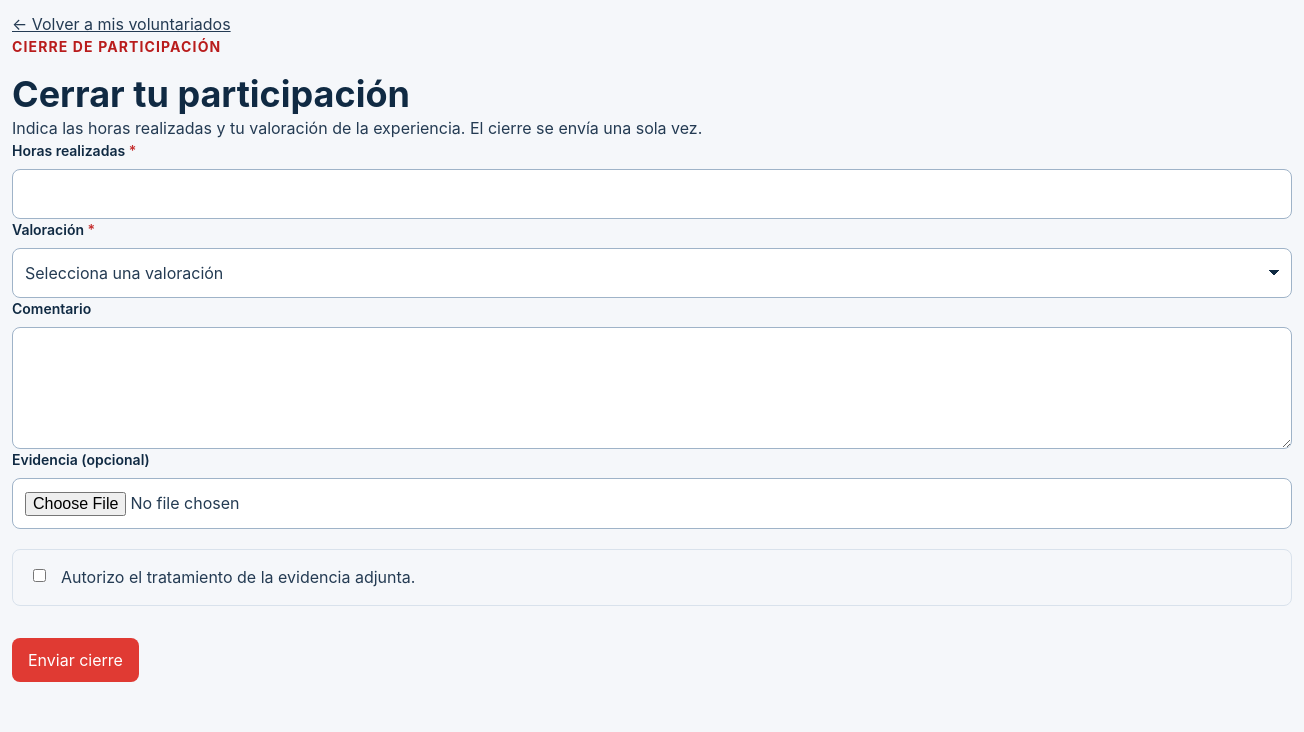
employee closure page › shows ACTIVITY_NOT_FINISHED when the activity has not ended yet
Type "6" into the number field labelled "Horas realizadas *" at [652, 194], box 12,169 -> 1292,219
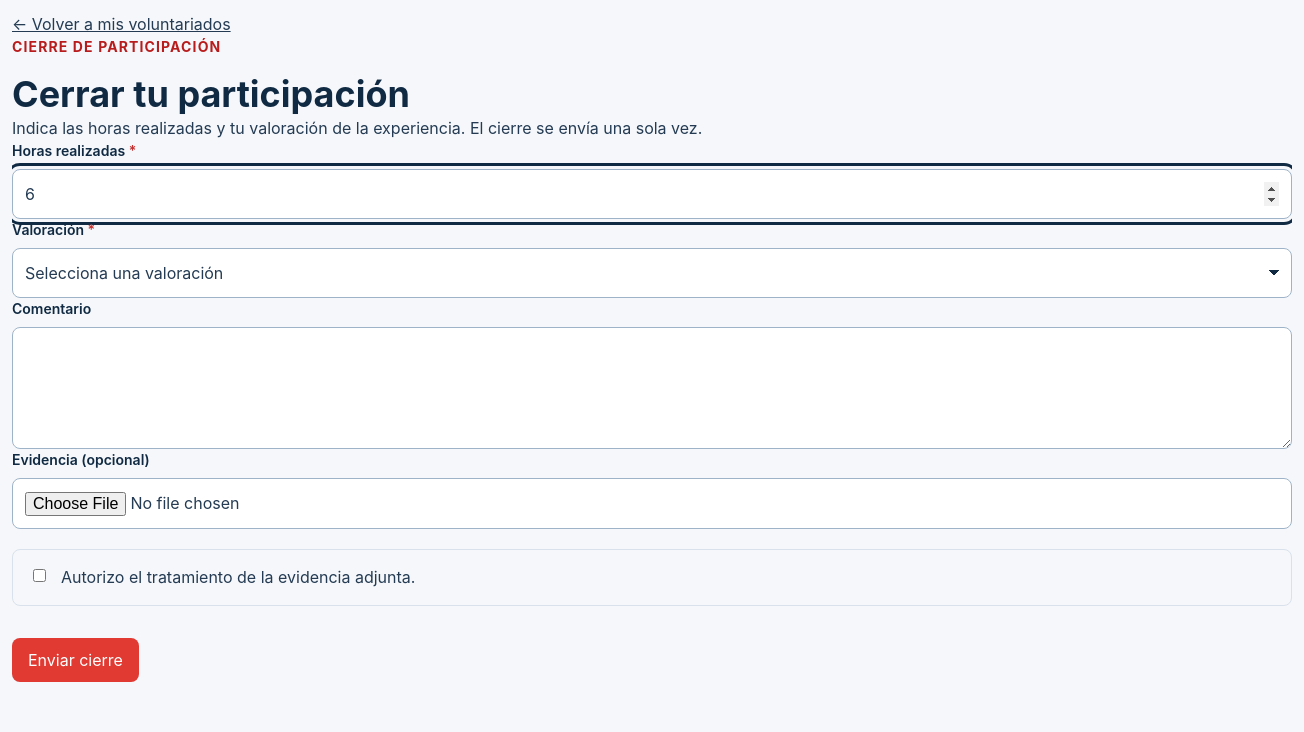
Select "5" in the dropdown labelled "Valoración *" at [652, 273], box 12,248 -> 1292,298
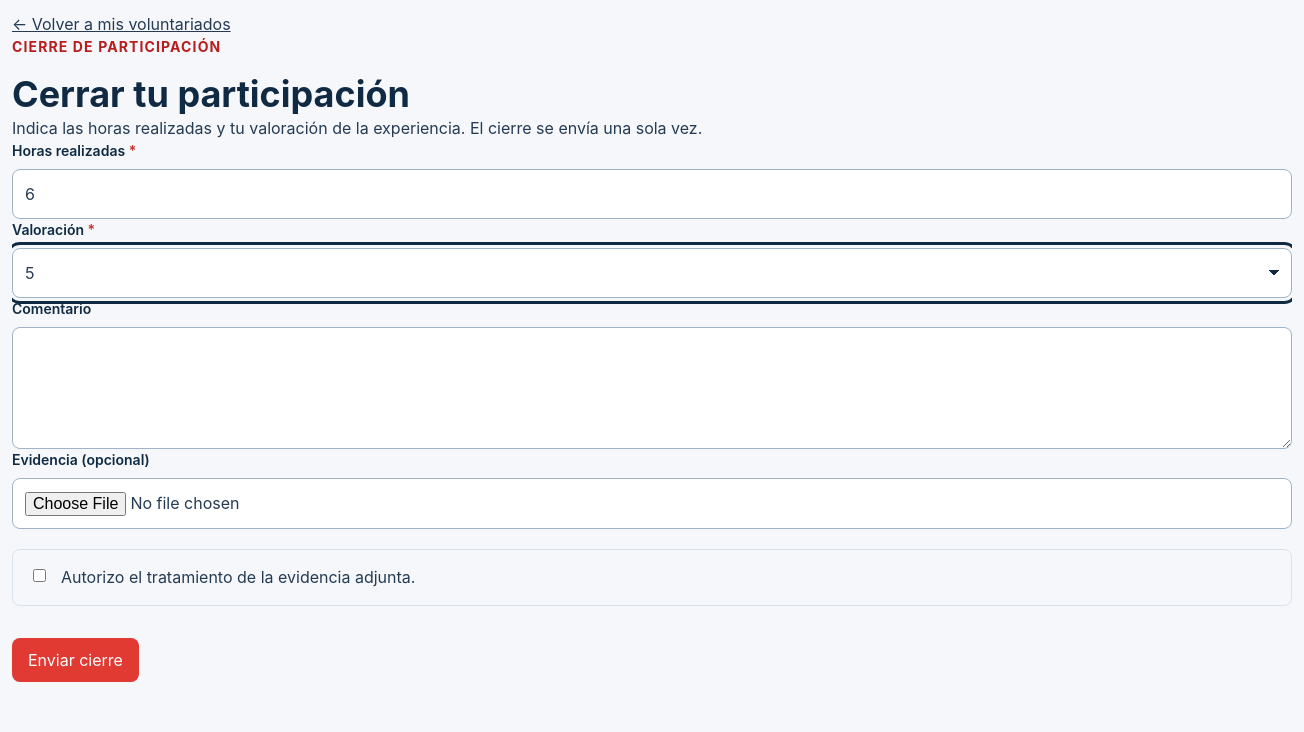
Click the button "Enviar cierre" at [75, 660], box 12,638 -> 139,682
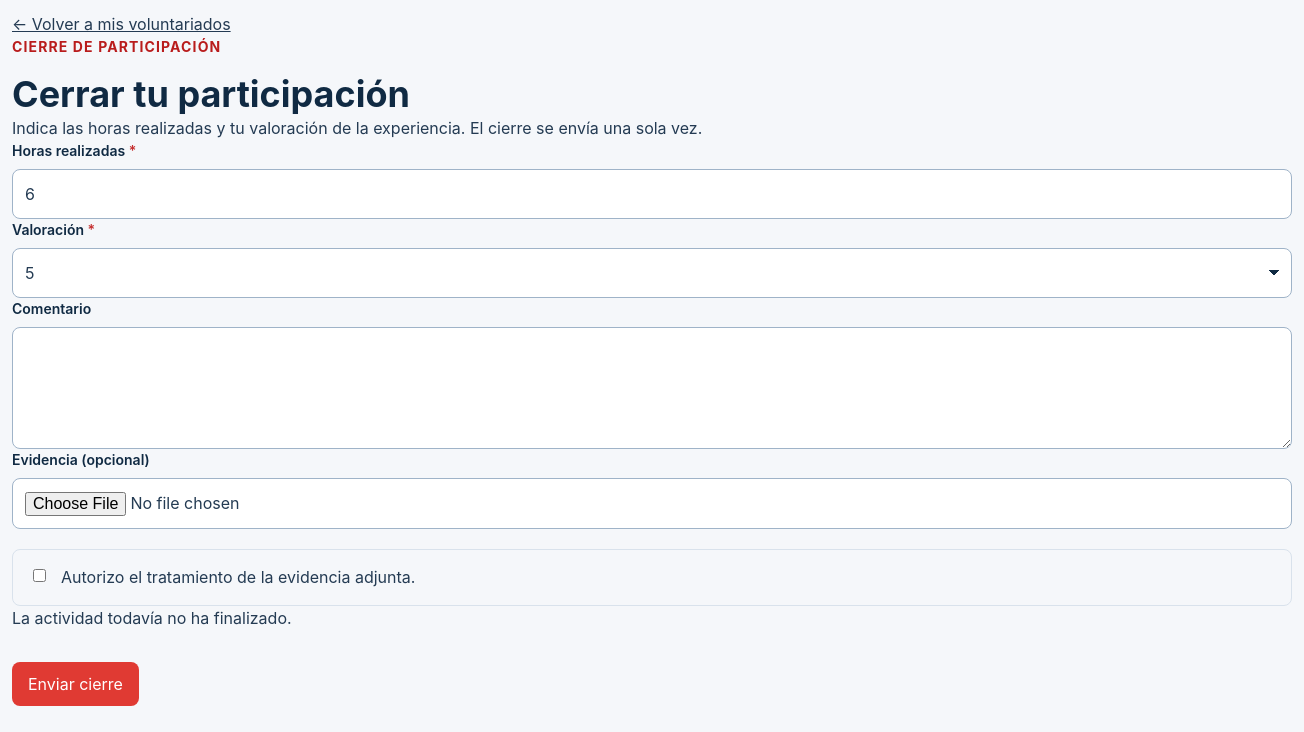
Result: the message shows "no ha finalizado" at 12,608 -> 292,628
